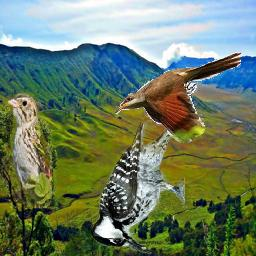Cuckoo: (115, 51, 241, 143)
Sparrow: (4, 88, 53, 208)
Woodpecker: (91, 122, 185, 255)
